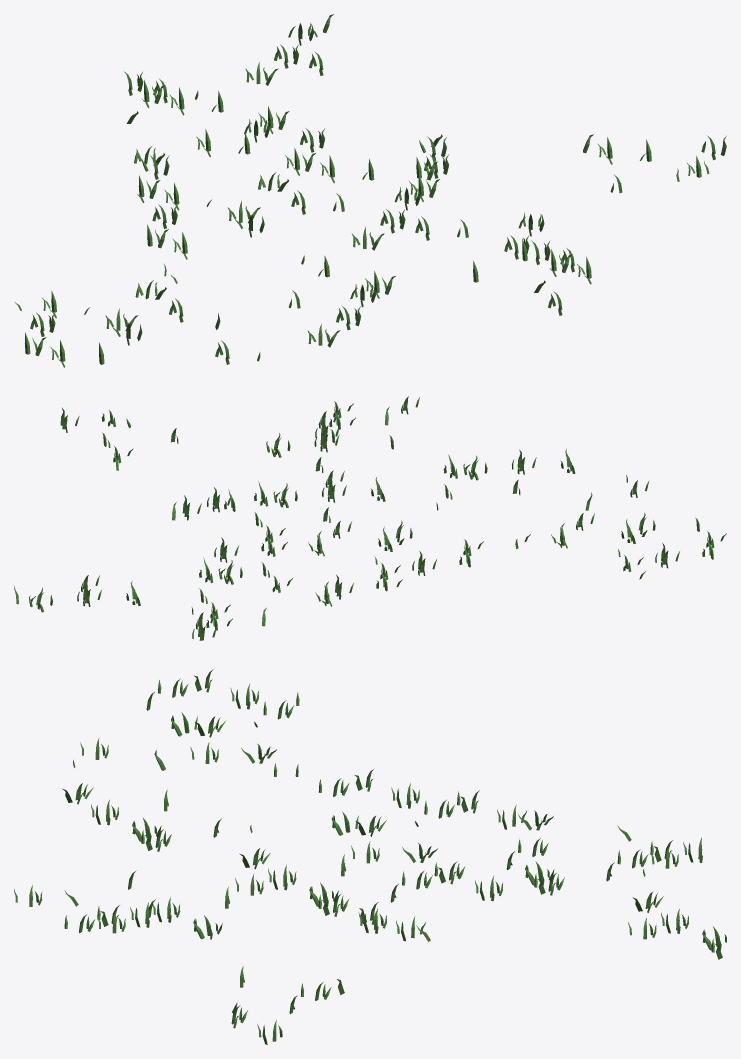
File: grass.fbx
3 views of the same model, one above another, from view 1: azimuth 30°, elevation 25°; view 2: azimuth 150°, elevation 25°; view 3: azimuth 270°, elevation 25° (orthographic). The views are drawn at different scales.
Parts seen in each view (by area): view 1: grass_mesh; view 2: grass_mesh; view 3: grass_mesh.
Part boxes in pixels (x1,y1,x2,y2): grass_mesh: (15,14,726,367); grass_mesh: (14,396,726,640); grass_mesh: (14,669,726,1044).
Bounding box in the file's own units: 8.61 × 0.2365 × 7.25.
